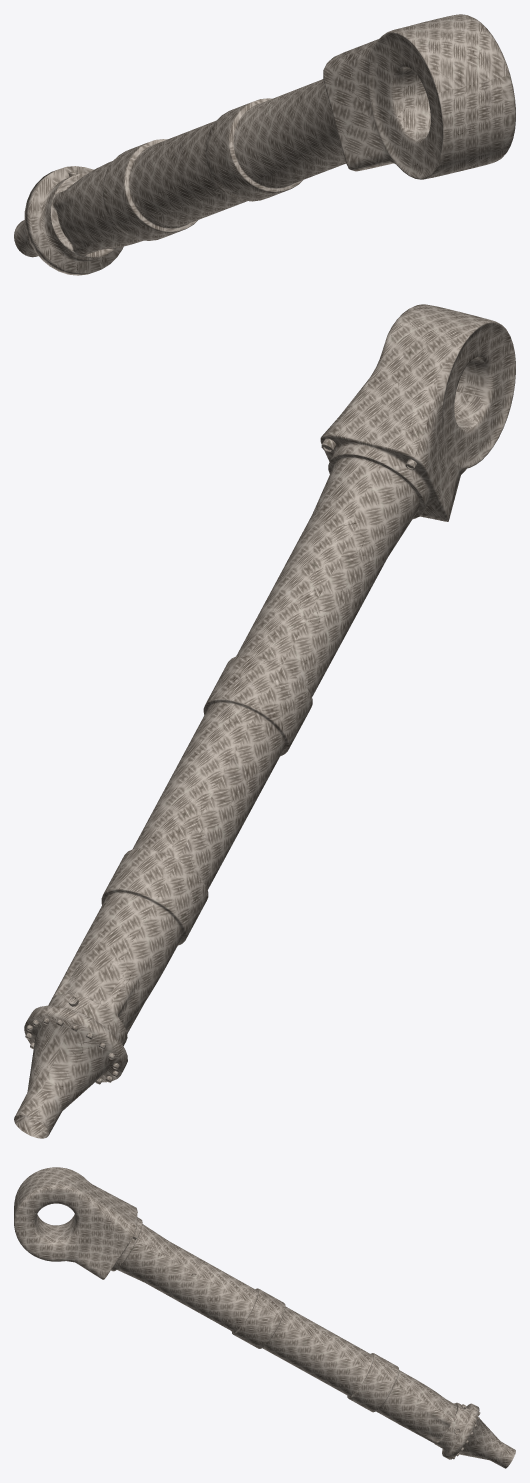
Rendered from Parte2_Brazo.obj.
3 views of the same model, one above another, from view 1: azimuth 30°, elevation 25°; view 2: azimuth 150°, elevation 25°; view 3: azimuth 270°, elevation 25° (orthographic). The views are drawn at different scales.
Visible parts, largest first — view 1: Parte2_Brazo; view 2: Parte2_Brazo; view 3: Parte2_Brazo.
Part boxes in pixels (x1,y1,x2,y2): Parte2_Brazo: (14, 14, 515, 275); Parte2_Brazo: (14, 304, 515, 1138); Parte2_Brazo: (14, 1167, 515, 1468).
Size of the model in its own units: 0.0995 by 0.4736 by 0.7409.
Materials: 1 (1 with a texture image).
